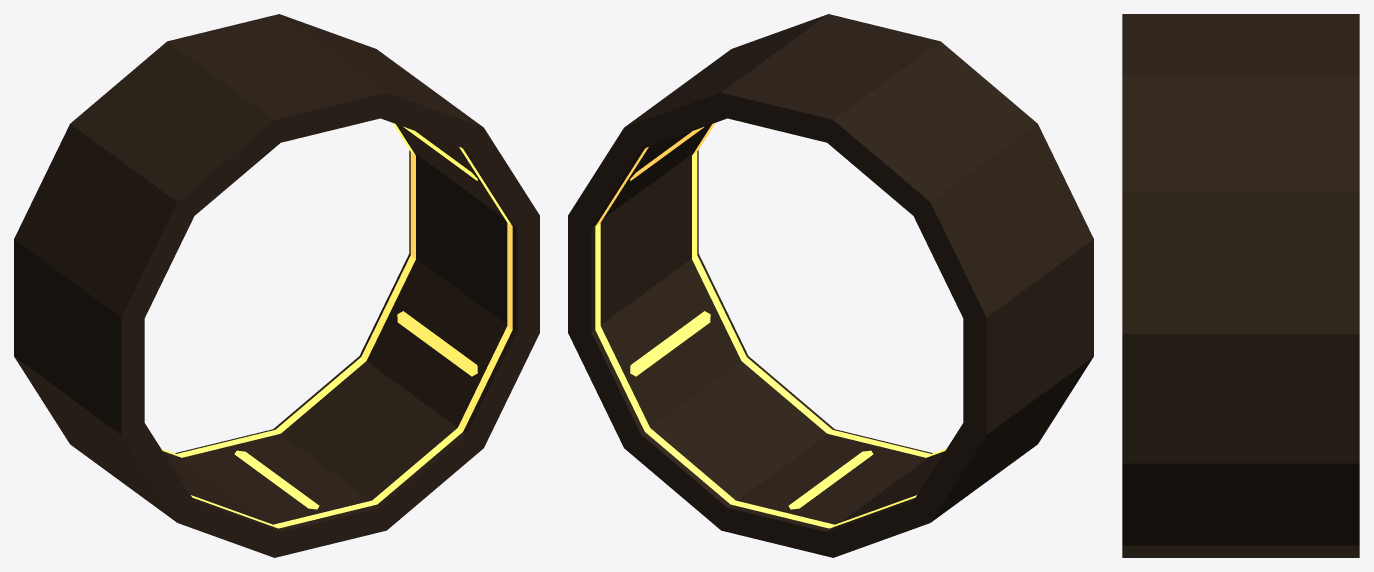
File: tunnel_ring_hard.glb
The picture shows the model from 3 angles, left to right: view 1: azimuth 30°, elevation 25°; view 2: azimuth 150°, elevation 25°; view 3: azimuth 270°, elevation 25°; orthographic projection. The views are drawn at different scales.
Parts seen in each view (by area): view 1: Mesh; view 2: Mesh; view 3: Mesh.
Boxes of the visible parts, x1,y1,x2,y2 form: Mesh: [14, 14, 539, 557]; Mesh: [568, 14, 1093, 557]; Mesh: [1122, 14, 1359, 557].
Bounding box in the file's own units: 4.5 × 4.5 × 2.
